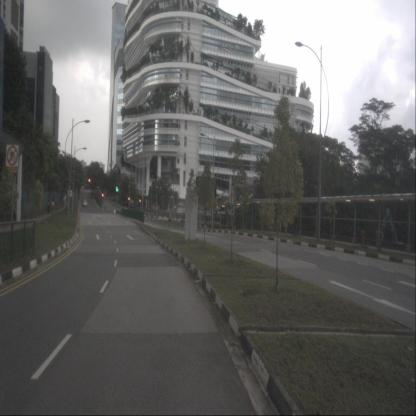human-pedestrian-adult: (51, 199, 55, 214), (47, 199, 50, 214)
vehicle-car: (83, 199, 88, 206)
